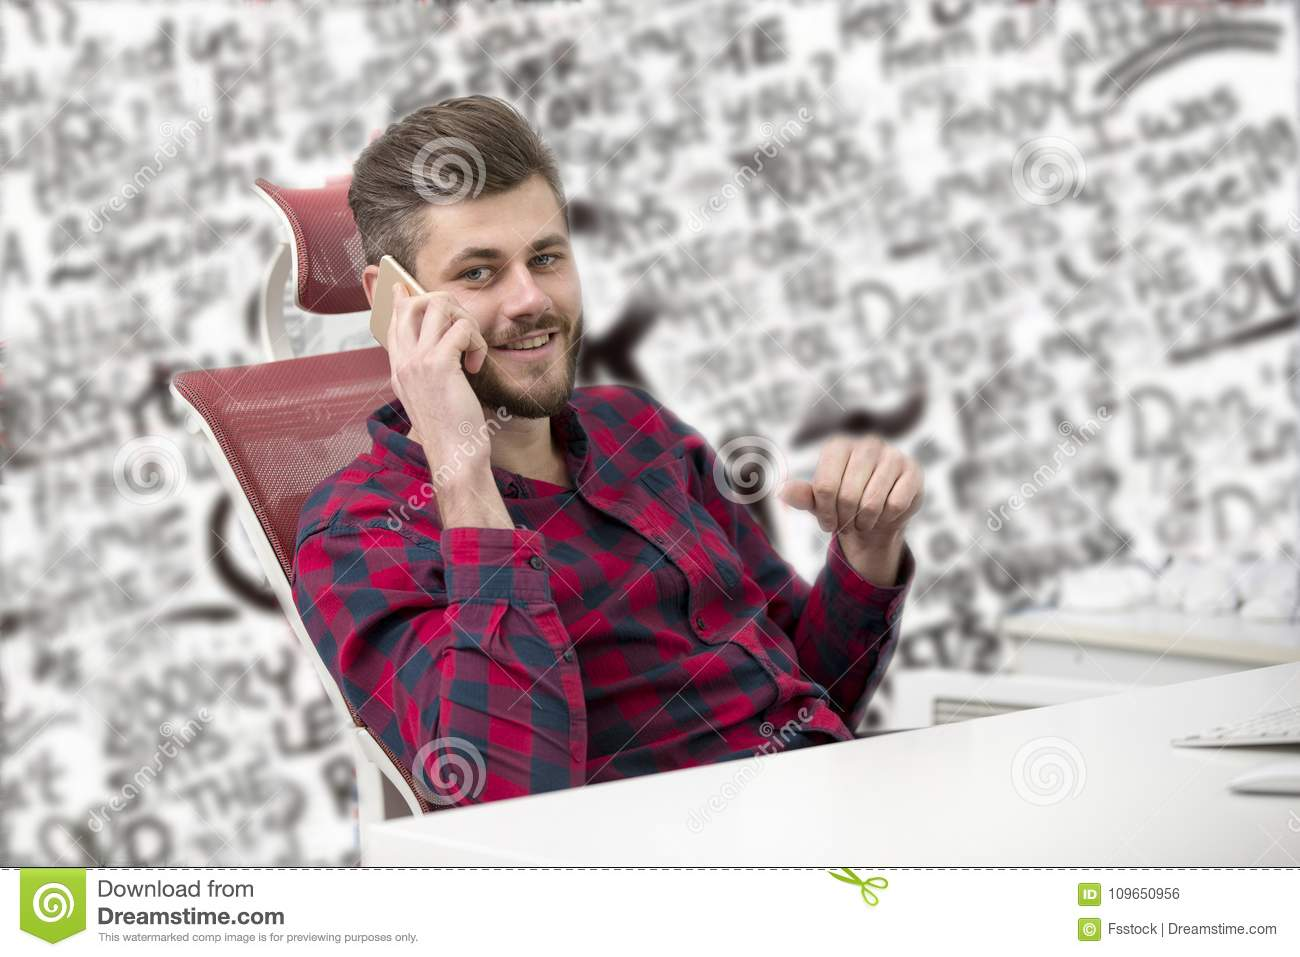phone: (369, 259, 477, 380)
talk: (369, 236, 581, 484)
